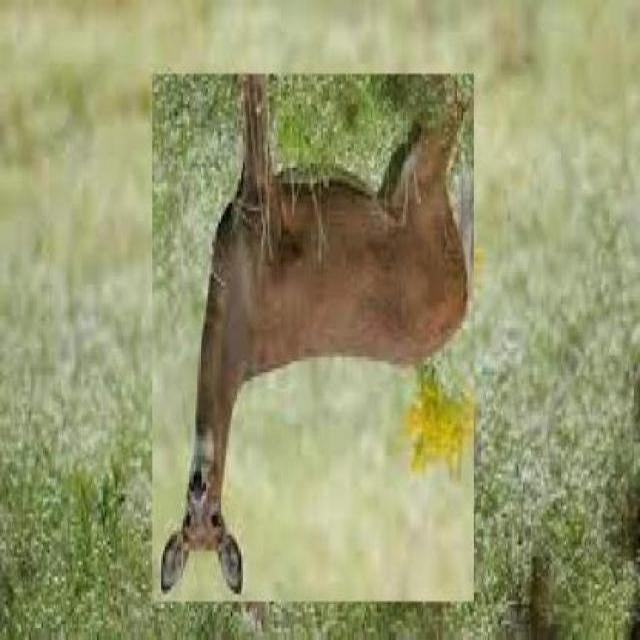deer: (152, 74, 476, 603)
